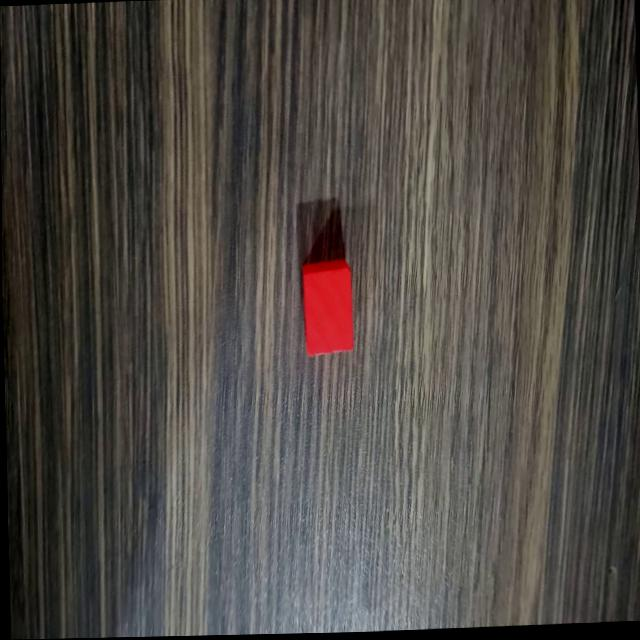cube: (299, 252, 358, 362)
